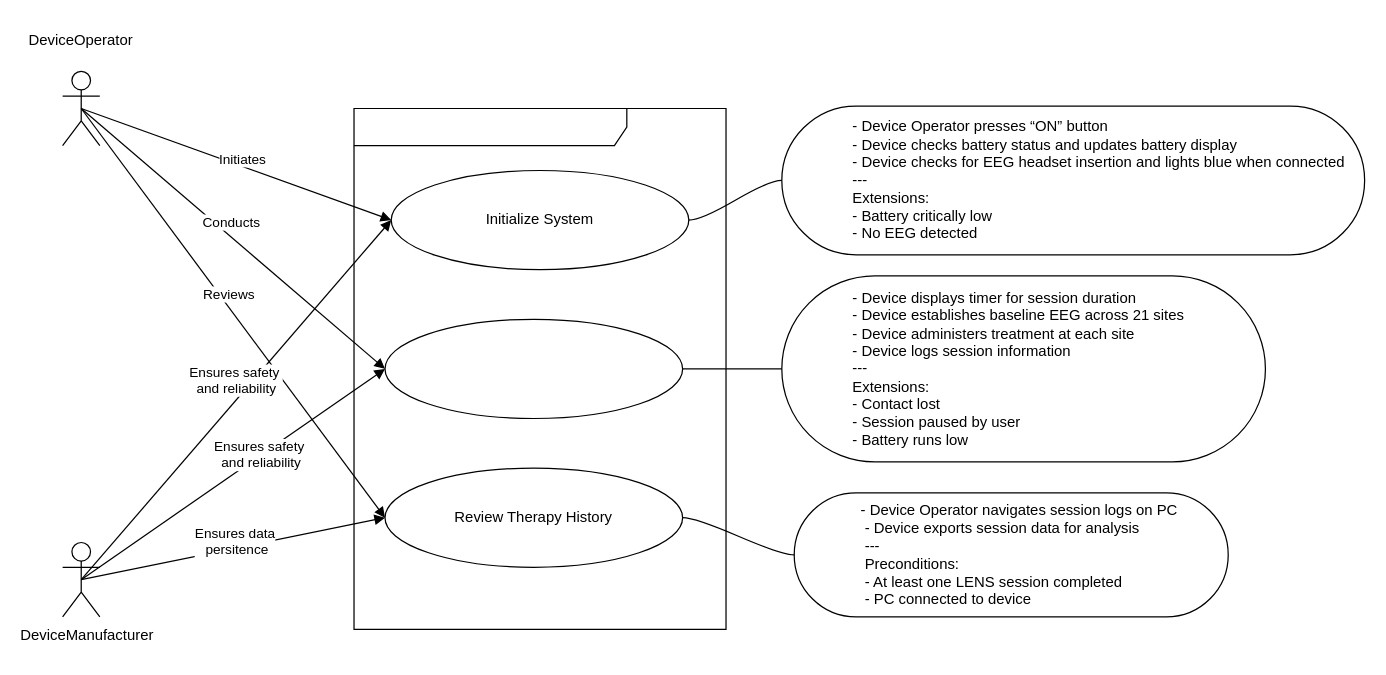
Image size: 1386x675. Some labels were removed from this diagram. Each missing label, with the box of its shape:
LENS TREATMENT DEVICE SYSTEM: (353, 107, 726, 629)
Perform LENS Session: (384, 318, 683, 418)
